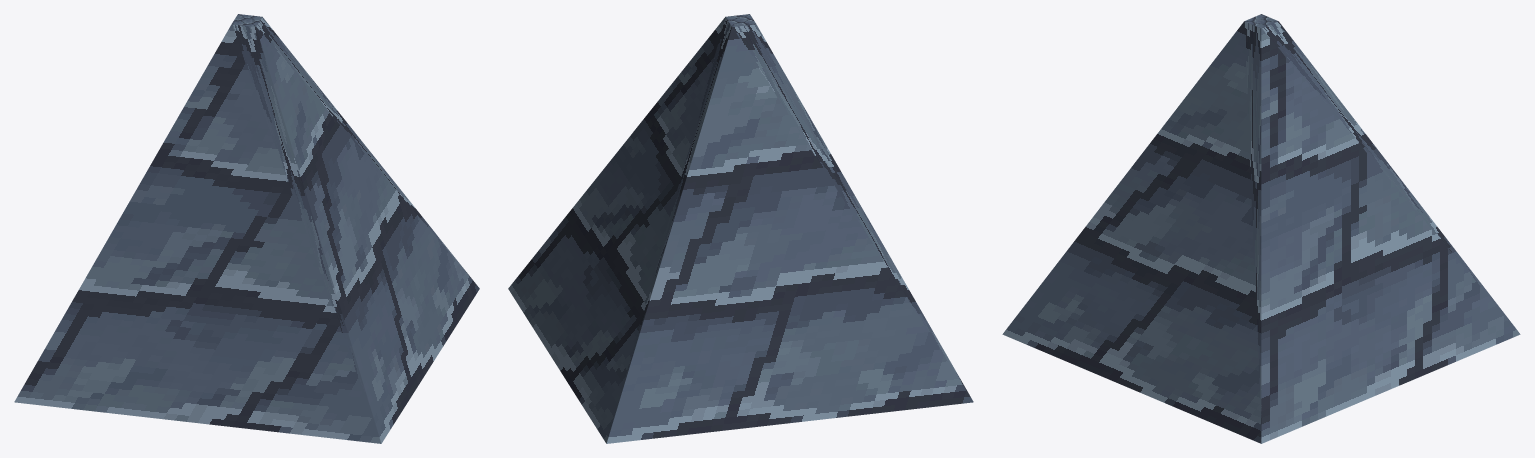
Rendered from roof_gable.glb.
3 views of the same model, side by side, from view 1: azimuth 30°, elevation 25°; view 2: azimuth 150°, elevation 25°; view 3: azimuth 270°, elevation 25° (orthographic). The views are drawn at different scales.
Parts seen in each view (by area): view 1: RoofGable; view 2: RoofGable; view 3: RoofGable.
Part boxes in pixels (left/top/right/bottom): RoofGable: left=14, top=14, right=479, bottom=443; RoofGable: left=508, top=14, right=973, bottom=443; RoofGable: left=1002, top=14, right=1520, bottom=443.
Bounding box in the file's own units: 1.5 × 1 × 1.5.
1 material, 1 textured.
